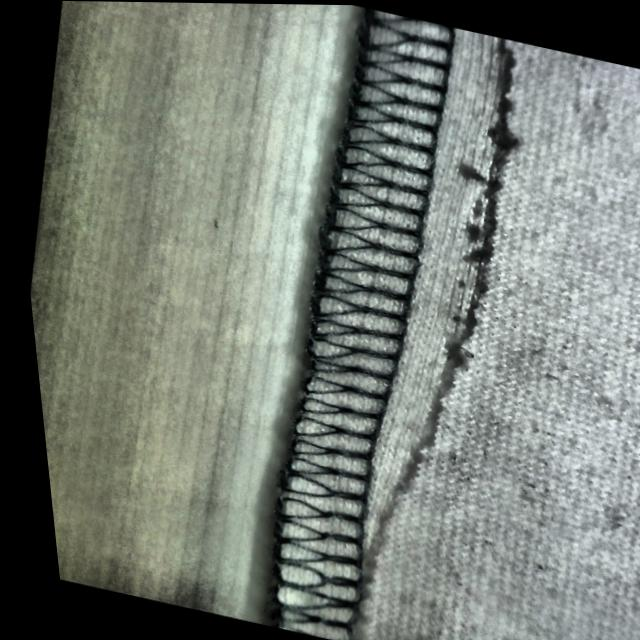seam: (207, 2, 602, 615)
